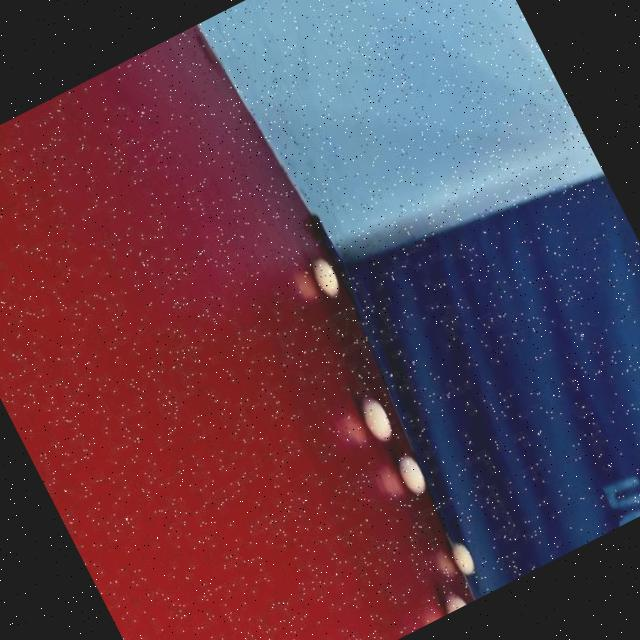ping-pong-ball: (350, 386, 400, 450), (301, 246, 350, 308), (389, 444, 436, 502), (442, 532, 484, 584), (432, 580, 471, 616)
